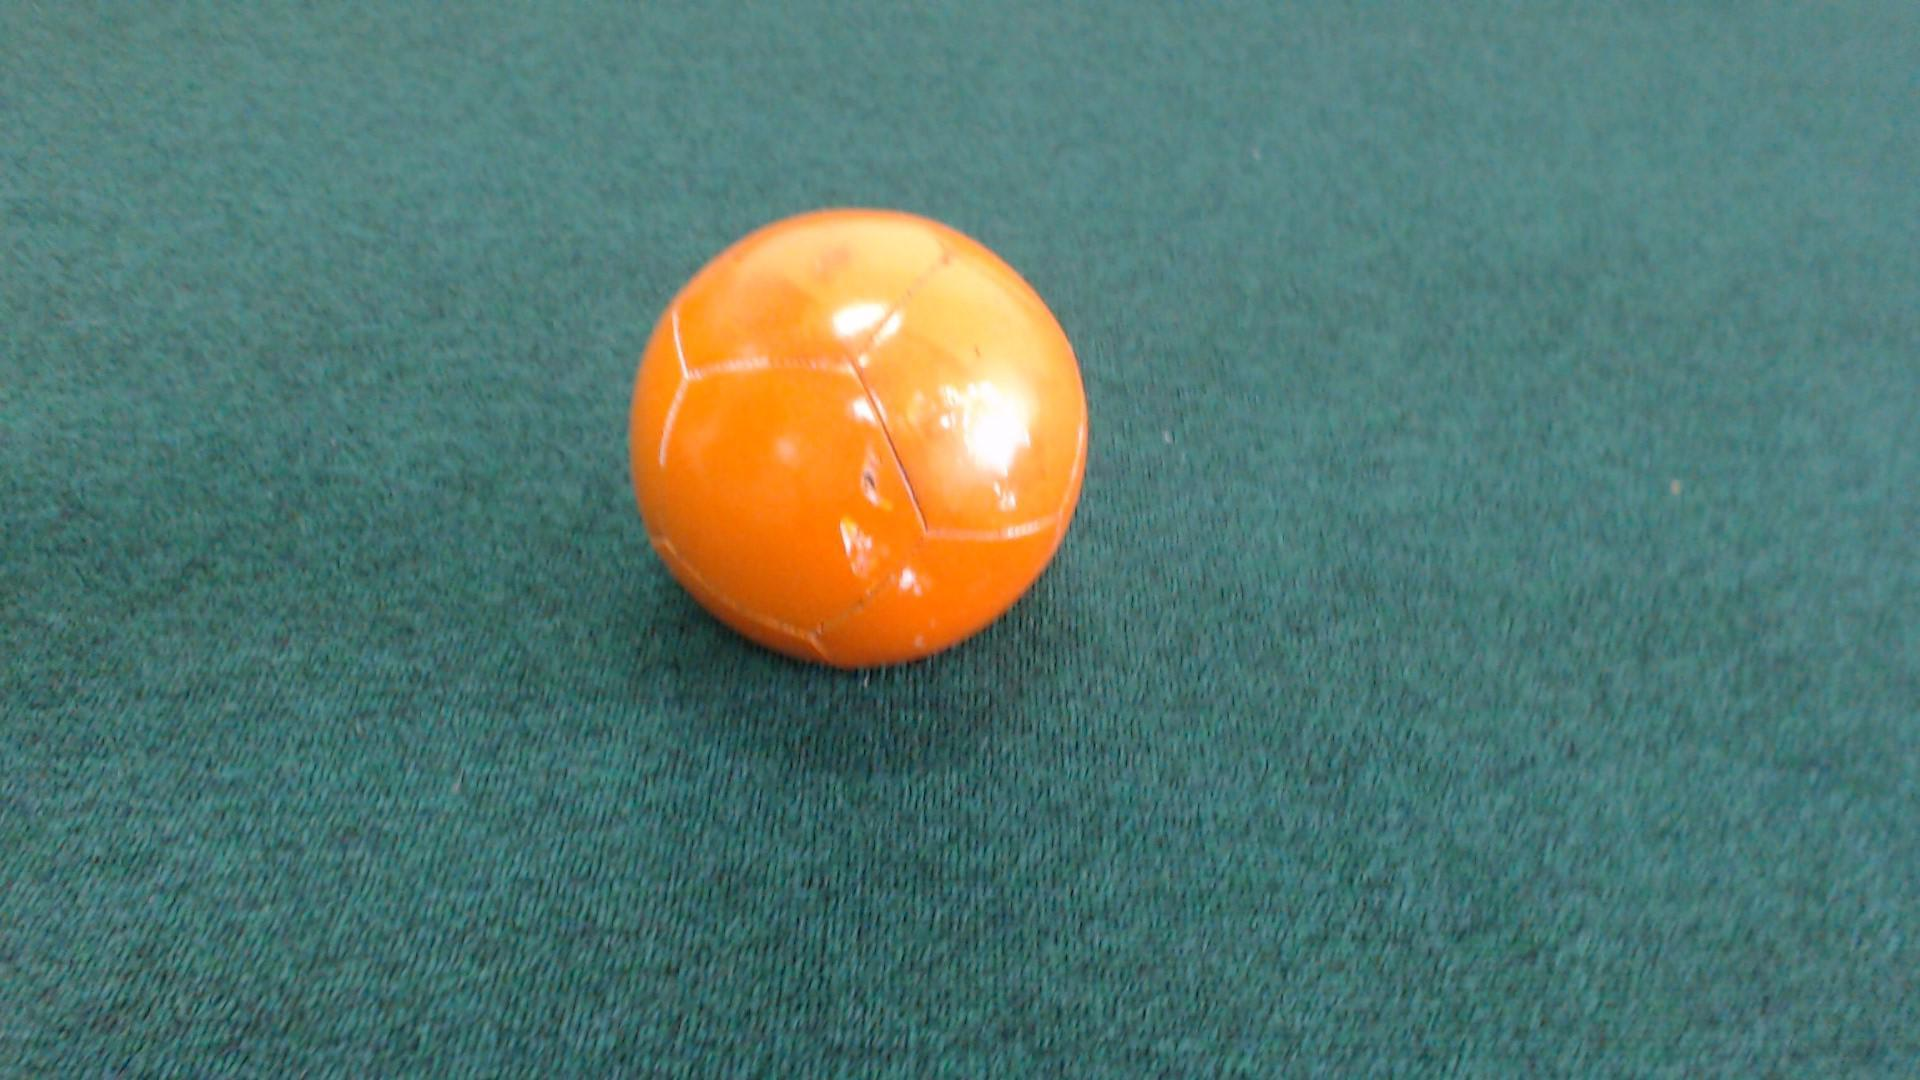bola: (585, 199, 1114, 679)
